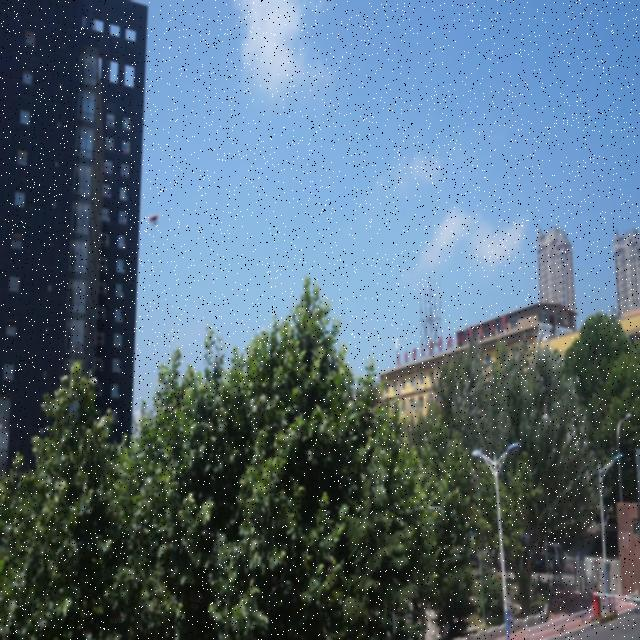UAV: (146, 212, 162, 227)
